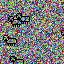sheep: (3, 34, 17, 47), (15, 12, 30, 24), (8, 15, 22, 27), (10, 56, 24, 64)
